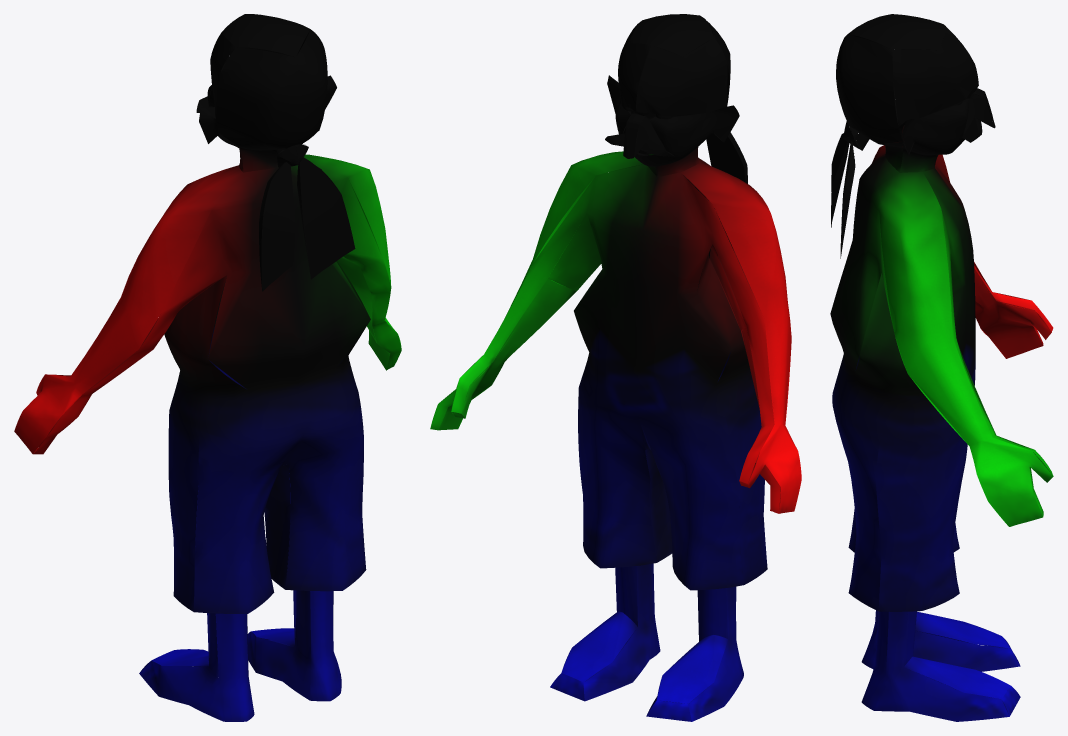
The model's file is opponent1.glb.
3 views of the same model, side by side, from view 1: azimuth 30°, elevation 25°; view 2: azimuth 150°, elevation 25°; view 3: azimuth 270°, elevation 25° (orthographic). The views are drawn at different scales.
Parts seen in each view (by area): view 1: opponent1; view 2: opponent1; view 3: opponent1.
Part boxes in pixels (x1,y1,x2,y2): opponent1: [14, 14, 401, 721]; opponent1: [430, 14, 801, 721]; opponent1: [830, 14, 1053, 721].
Bounding box in the file's own units: 1.02 × 1.79 × 0.5497.
Materials: 1 (1 with a texture image).
